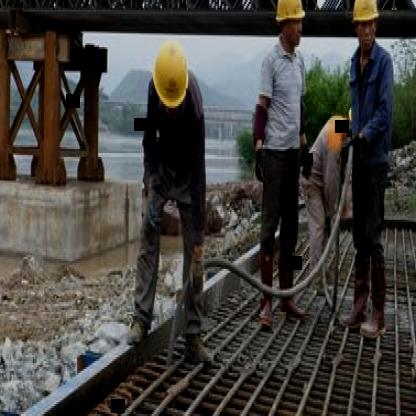helmet: (150, 35, 192, 116), (350, 0, 383, 55), (273, 0, 305, 53)
